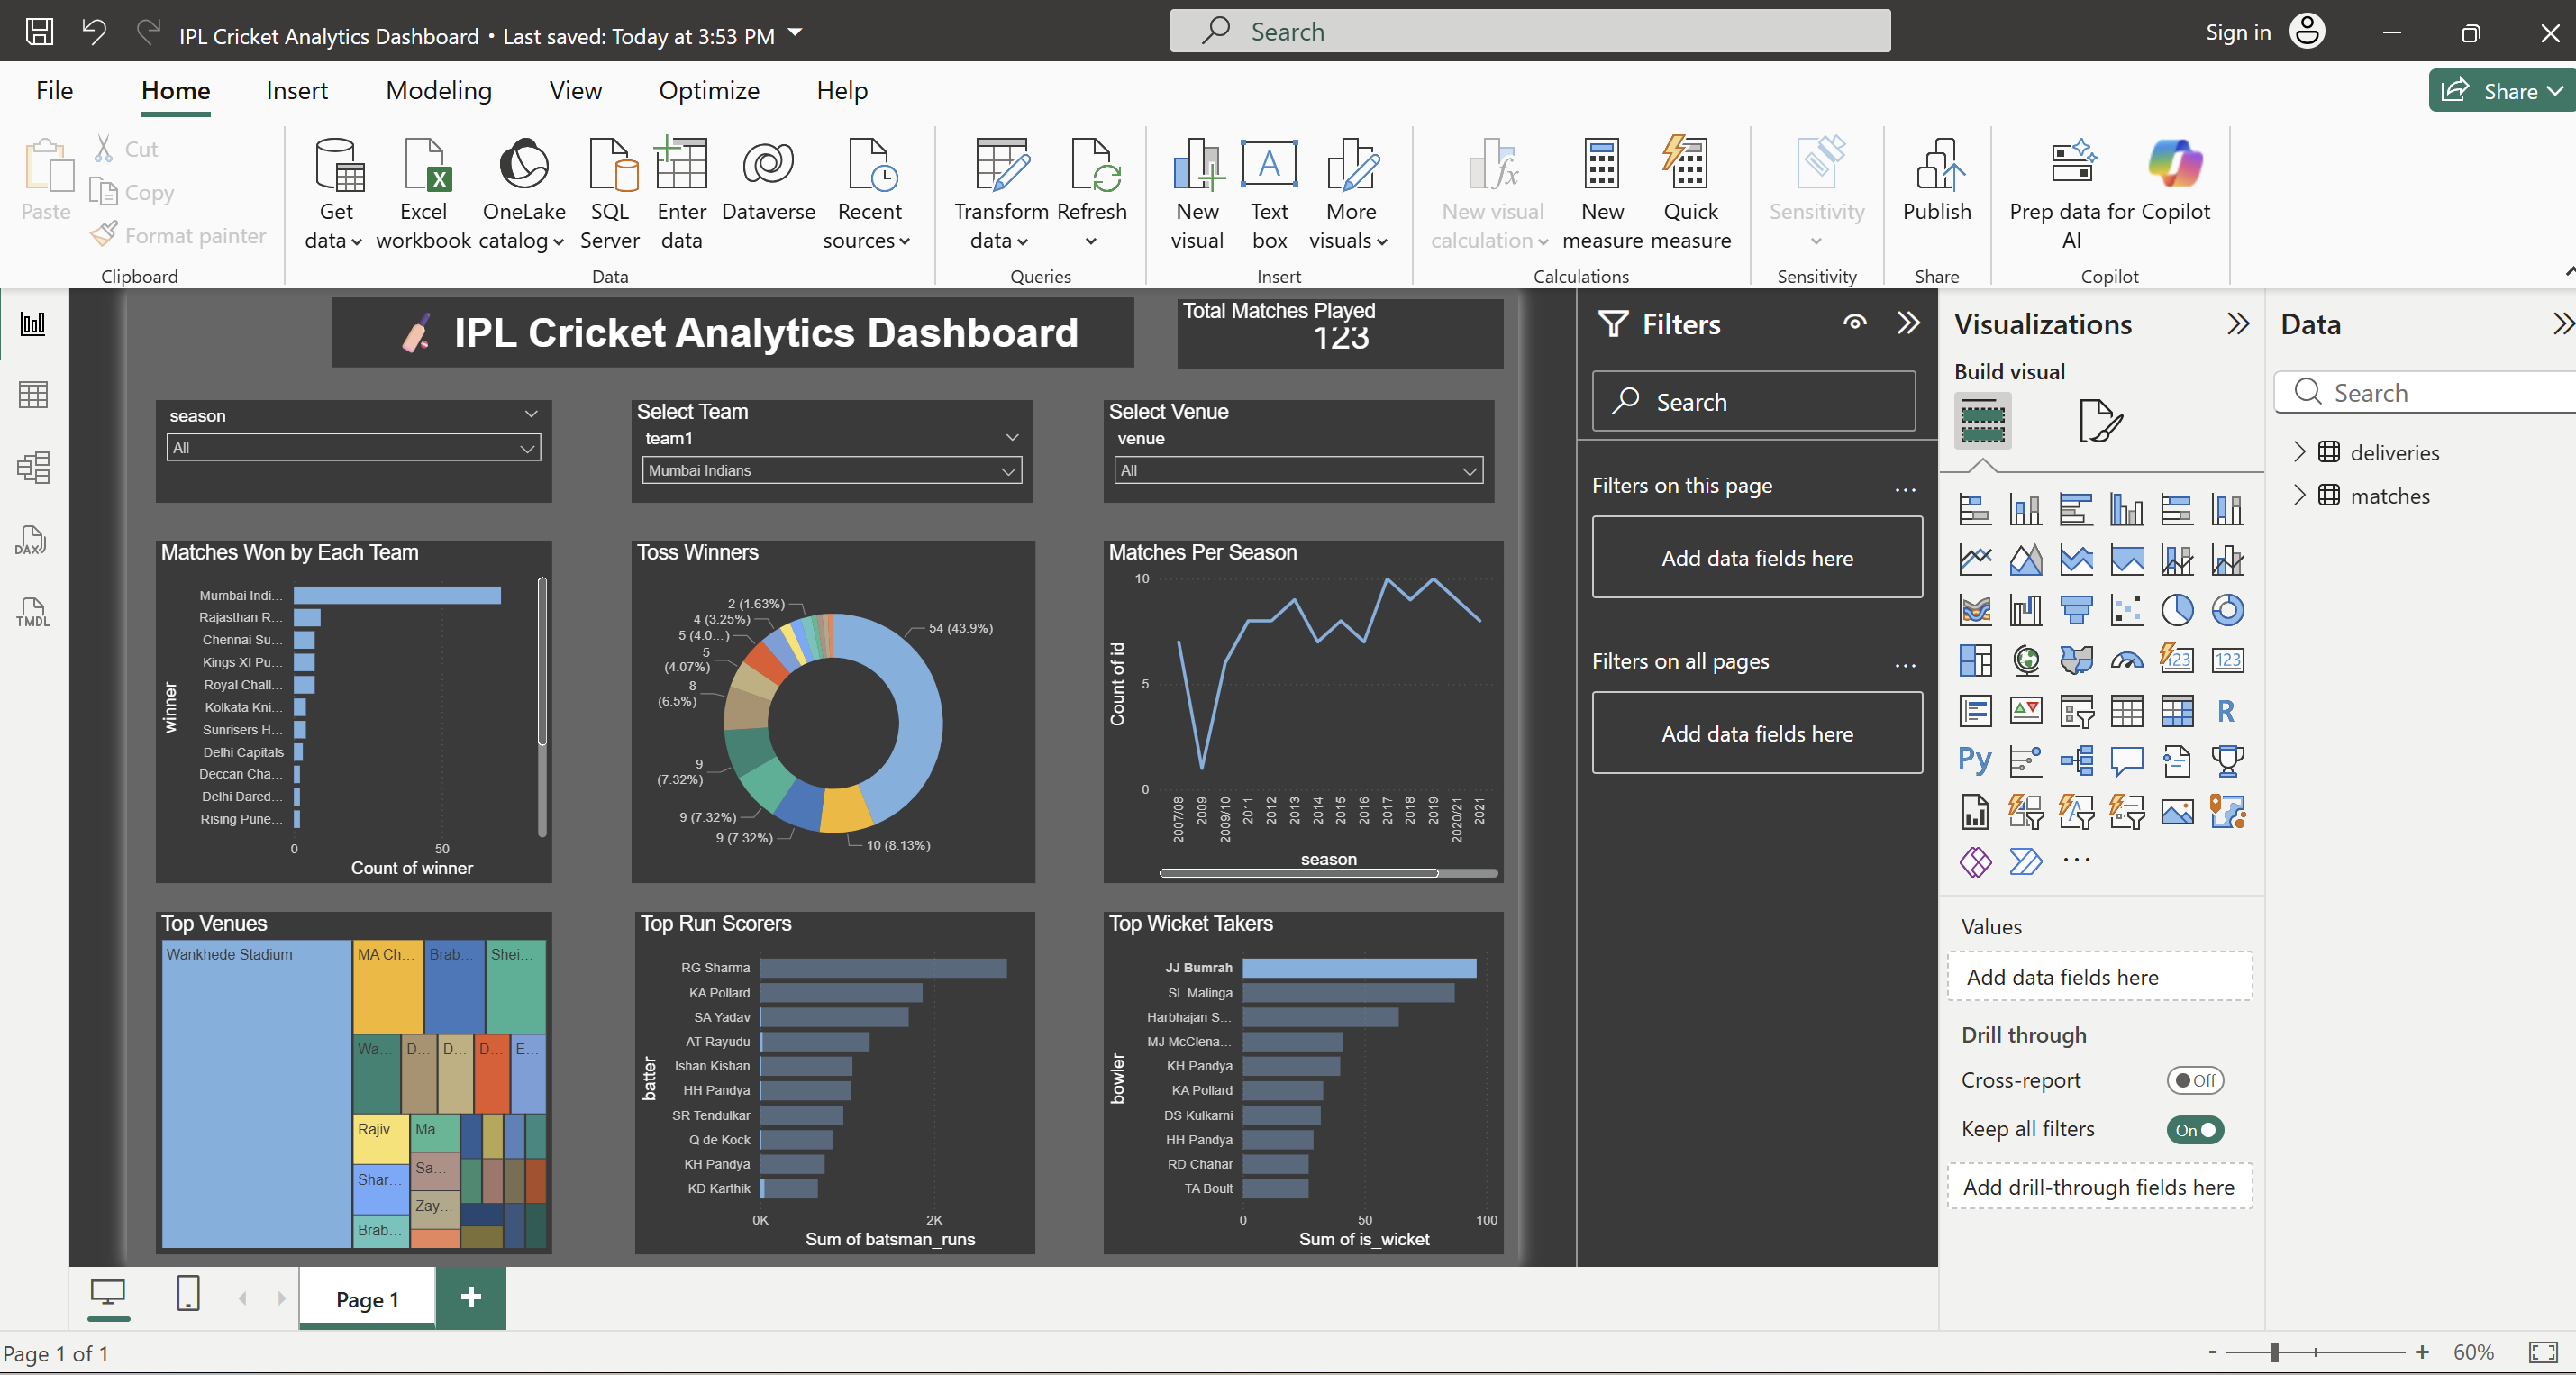

What the dashboard file says about the page in this screenshot:
{"tool":"powerbi","page":{"name":"Page 1","canvas":[1280,900],"ordinal":0},"visuals":[{"type":"clusteredBarChart","title":"Matches Won by Each Team","fields":{"Category":["matches.winner"],"Y":["CountNonNull(matches.winner)"]},"box":[26.5,232,364.6,314.9],"z":0},{"type":"donutChart","title":"Toss Winners","fields":{"Category":["matches.toss_winner"],"Y":["CountNonNull(matches.toss_winner)"]},"box":[464.1,232,371.3,314.9],"z":1},{"type":"lineChart","title":"Matches Per Season","fields":{"Category":["matches.season"],"Y":["CountNonNull(matches.id)"]},"box":[898.3,232,368,314.9],"z":2},{"type":"treemap","title":"Top Venues","fields":{"Group":["matches.venue"],"Values":["CountNonNull(matches.id)"]},"box":[26.5,573.5,364.6,314.9],"z":3},{"type":"clusteredBarChart","title":"Top Run Scorers","fields":{"Category":["deliveries.batter"],"Y":["Sum(deliveries.batsman_runs)"]},"box":[467.4,573.5,368,314.9],"z":4},{"type":"clusteredBarChart","title":"Top Wicket Takers","fields":{"Category":["deliveries.bowler"],"Y":["Sum(deliveries.is_wicket)"]},"box":[898.3,573.5,368,314.9],"z":5},{"type":"slicer","fields":{"Values":["matches.season"]},"box":[26.5,102.8,364.6,94.5],"z":6},{"type":"slicer","title":"Select Team","fields":{"Values":["matches.team1"]},"box":[464.1,102.8,369.6,94.5],"z":7},{"type":"slicer","title":"Select Venue","fields":{"Values":["matches.venue"]},"box":[898.3,102.8,359.7,94.5],"z":8},{"type":"textbox","box":[189,8.3,737.6,64.6],"z":9},{"type":"card","title":"Total Matches Played","fields":{"Values":["CountNonNull(matches.id)"]},"box":[966.3,9.9,300,64.6],"z":10}]}

Visuals, with their boxes on the page's 1280x900 design canvas (x1, y1, x2, y2). These are canvas units, not pixel positions in the 2576x1375 screenshot, which may show the page scaled, cropped or inside an application window:
"Matches Won by Each Team" clusteredBarChart: crop(26, 232, 391, 547)
"Toss Winners" donutChart: crop(464, 232, 835, 547)
"Matches Per Season" lineChart: crop(898, 232, 1266, 547)
"Top Venues" treemap: crop(26, 574, 391, 888)
"Top Run Scorers" clusteredBarChart: crop(467, 574, 835, 888)
"Top Wicket Takers" clusteredBarChart: crop(898, 574, 1266, 888)
slicer - matches.season: crop(26, 103, 391, 197)
"Select Team" slicer: crop(464, 103, 834, 197)
"Select Venue" slicer: crop(898, 103, 1258, 197)
textbox: crop(189, 8, 927, 73)
"Total Matches Played" card: crop(966, 10, 1266, 74)
